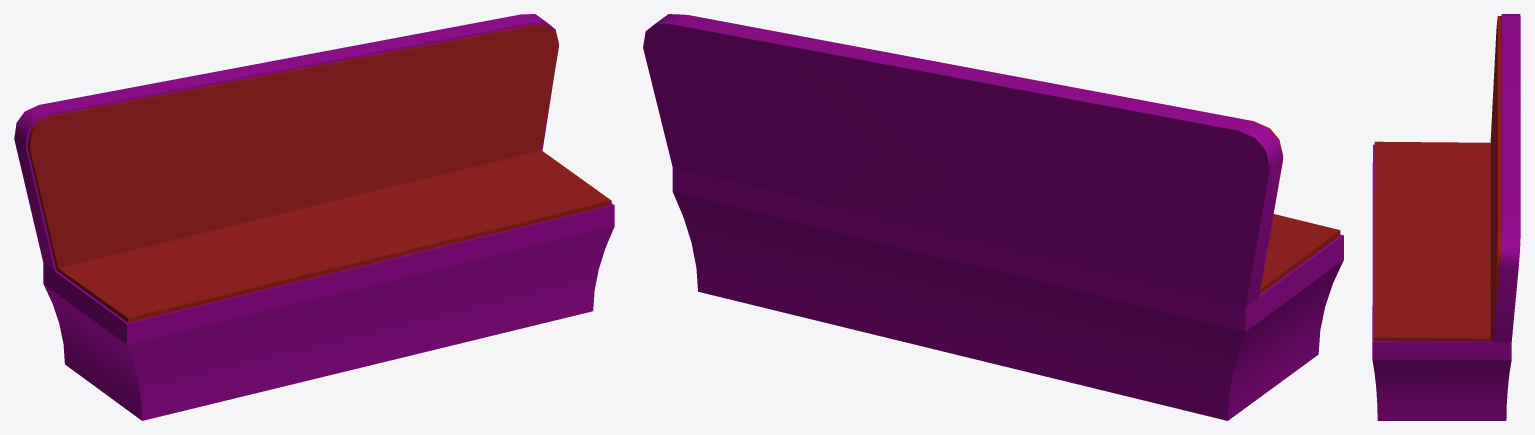
File: Sofa.FBX
3 views of the same model, side by side, from view 1: azimuth 30°, elevation 25°; view 2: azimuth 150°, elevation 25°; view 3: azimuth 270°, elevation 25° (orthographic). The views are drawn at different scales.
Visible parts, largest first — view 1: PRP_Sofa_1; view 2: PRP_Sofa_1; view 3: PRP_Sofa_1.
Boxes of the visible parts, x1,y1,x2,y2 form: PRP_Sofa_1: (14,14,614,420); PRP_Sofa_1: (643,14,1343,420); PRP_Sofa_1: (1372,14,1520,420).
Size of the model in its own units: 207 by 95.38 by 59.89.
